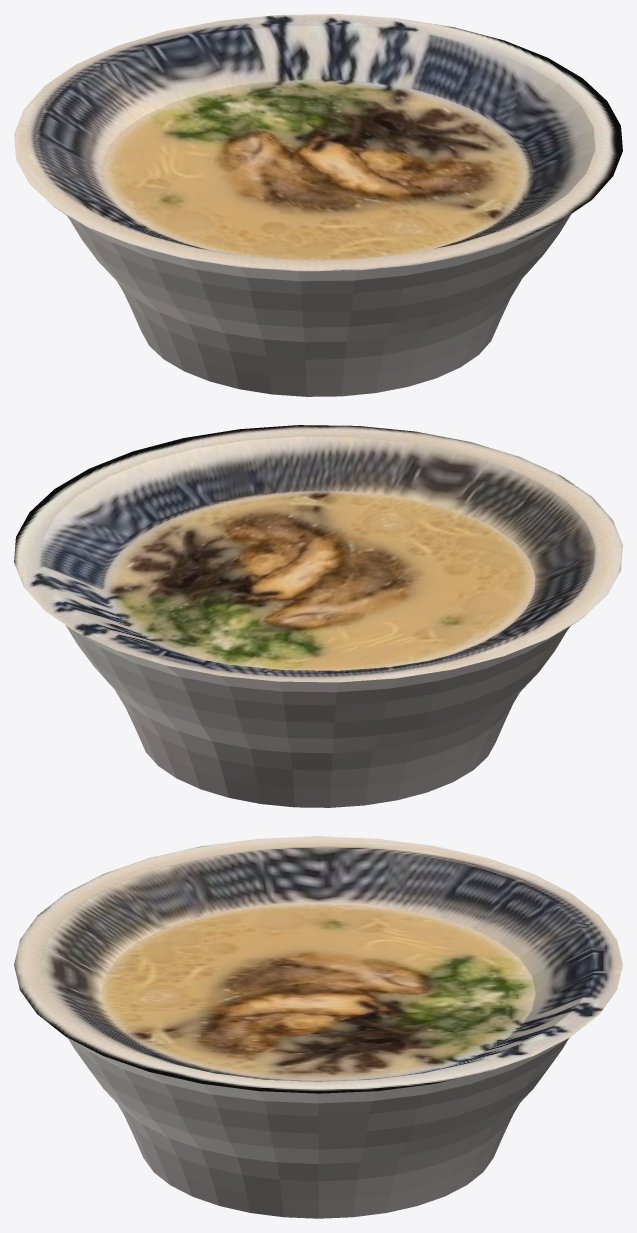
File: meisimatei.fbx
3 views of the same model, one above another, from view 1: azimuth 30°, elevation 25°; view 2: azimuth 150°, elevation 25°; view 3: azimuth 270°, elevation 25° (orthographic).
Visible parts, largest first — view 1: Cylinder; view 2: Cylinder; view 3: Cylinder.
Boxes of the visible parts, x1,y1,x2,y2 form: Cylinder: (14,14,622,396); Cylinder: (14,425,622,807); Cylinder: (14,836,622,1218).
Size of the model in its own units: 765 by 270 by 765.
1 material, 1 textured.
